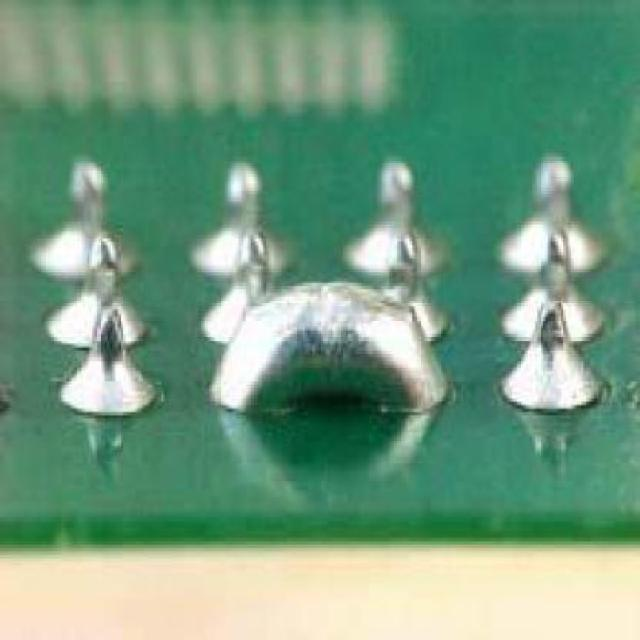Soldering shorted: (206, 266, 448, 412)
